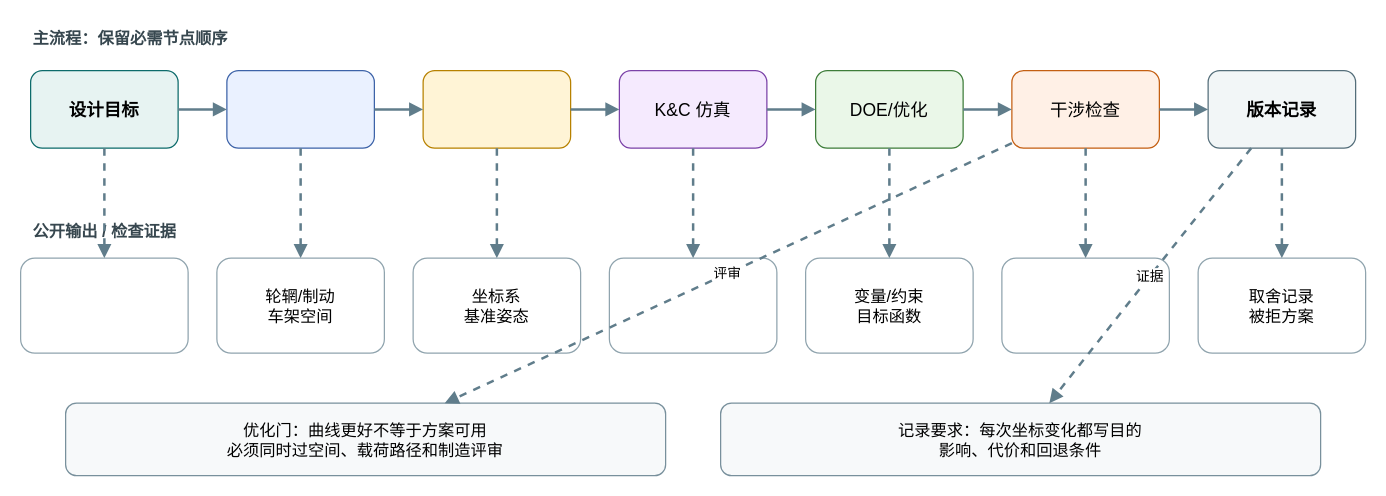
The diagram is 1386 pixels wide and 496 high, and some of its shapes have lost their labels. Each missing label, with the centre of its shape:
"CAD 包络 制造可达性" belongs at point (1085, 305).
"几何指标 轮胎需求" belongs at point (103, 305).
"初始硬点" belongs at point (496, 108).
"包络约束" belongs at point (300, 108).
"曲线报告 bump steer" belongs at point (692, 305).
